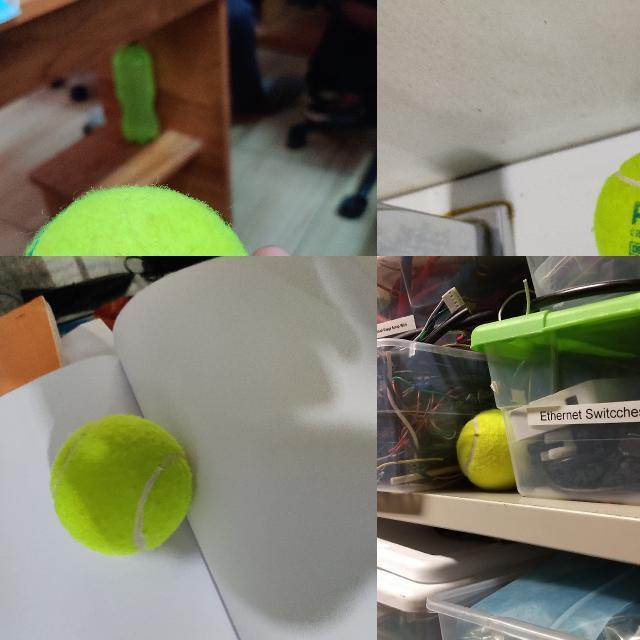tennis-ball: (49, 414, 194, 559), (7, 187, 261, 255), (590, 146, 639, 255), (455, 409, 499, 491)
